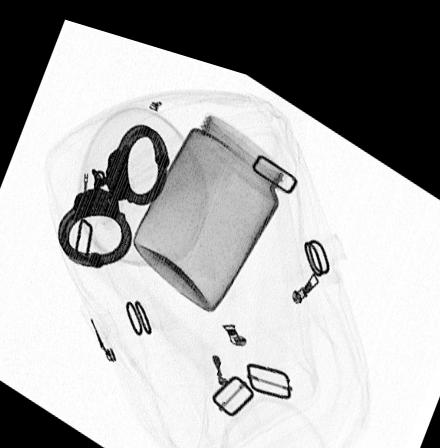HandCuffs: (55, 113, 171, 263)
